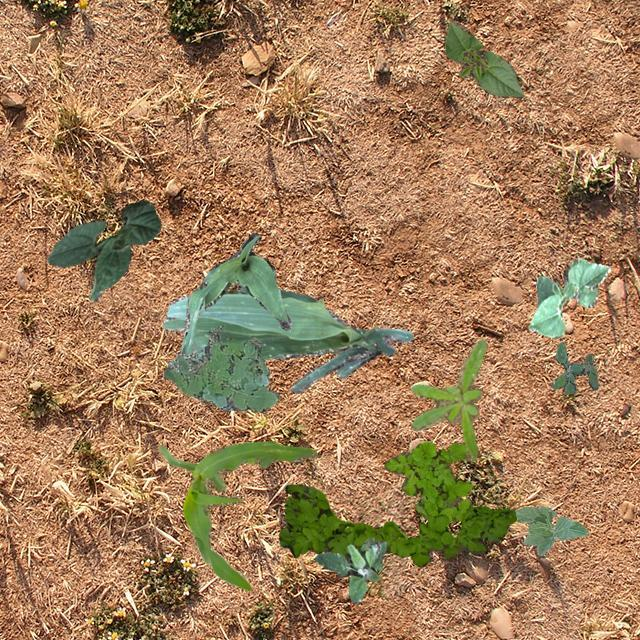crop: (160, 286, 412, 392), (158, 440, 318, 590), (178, 232, 290, 356), (46, 200, 160, 300), (528, 258, 610, 336), (443, 19, 522, 98), (513, 506, 587, 554)
weed: (278, 484, 516, 566), (162, 326, 278, 412), (410, 338, 486, 460), (383, 441, 472, 522), (314, 536, 386, 602), (550, 340, 598, 392)
